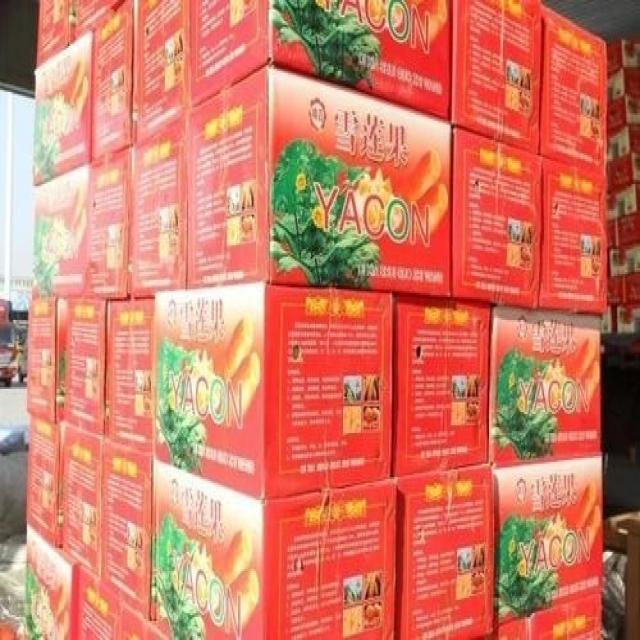box: (187, 59, 452, 297), (154, 286, 393, 498), (150, 454, 396, 640), (187, 0, 453, 123), (488, 303, 602, 468), (495, 458, 604, 629), (393, 291, 493, 477), (396, 462, 498, 640), (453, 127, 540, 306), (451, 0, 541, 155), (128, 107, 189, 301), (541, 2, 608, 178), (539, 158, 607, 316), (96, 433, 152, 619), (32, 31, 93, 186), (132, 0, 189, 148), (83, 146, 134, 301), (33, 163, 91, 299), (104, 297, 154, 454), (77, 561, 173, 640), (60, 420, 105, 577), (93, 0, 136, 159), (24, 521, 79, 640), (61, 297, 106, 437), (488, 590, 605, 640), (27, 297, 67, 422), (27, 412, 63, 550), (36, 0, 78, 67), (74, 0, 128, 38), (608, 155, 639, 199), (607, 36, 640, 77), (605, 126, 639, 163), (608, 96, 639, 136), (608, 213, 639, 253), (607, 268, 640, 305), (608, 180, 640, 217), (608, 67, 640, 103), (609, 241, 639, 276)
